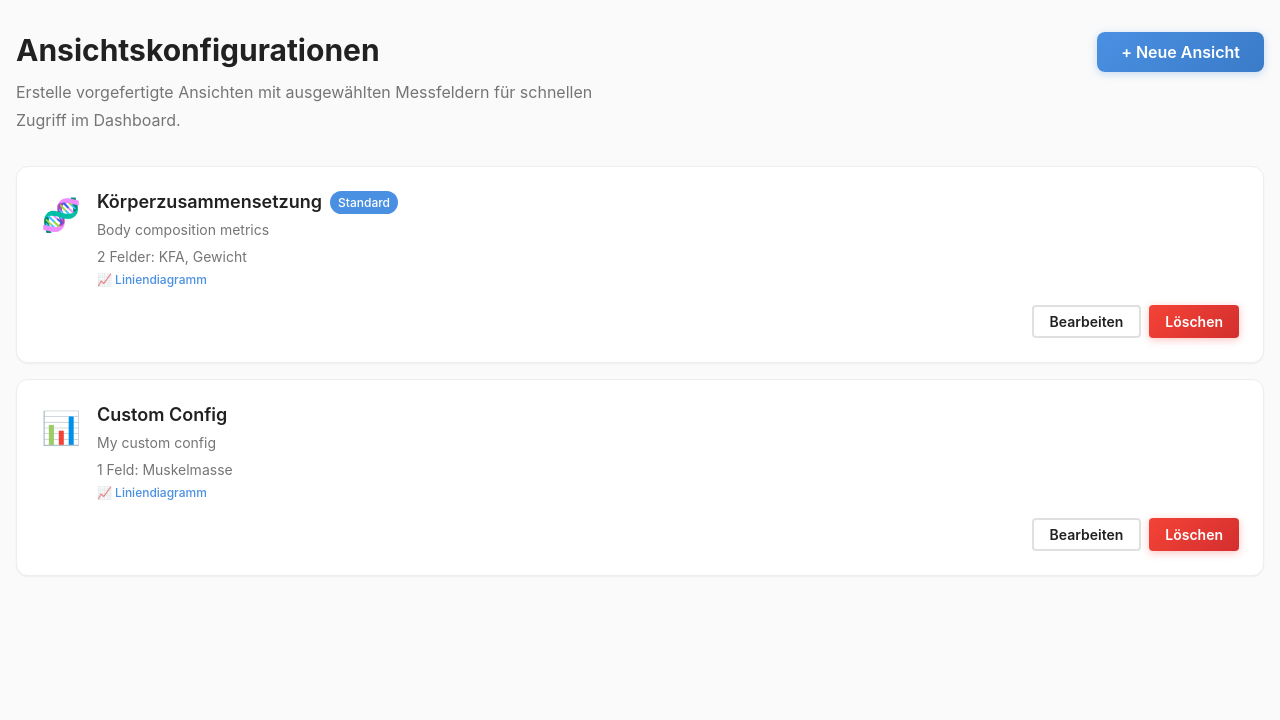
Test: ViewConfigsPage Component › Create View Config › should open modal when new view button is clicked
This screenshot has width=1280, height=720.
Click the button "+ Neue Ansicht" at (1181, 52), box [1097,32,1264,72]
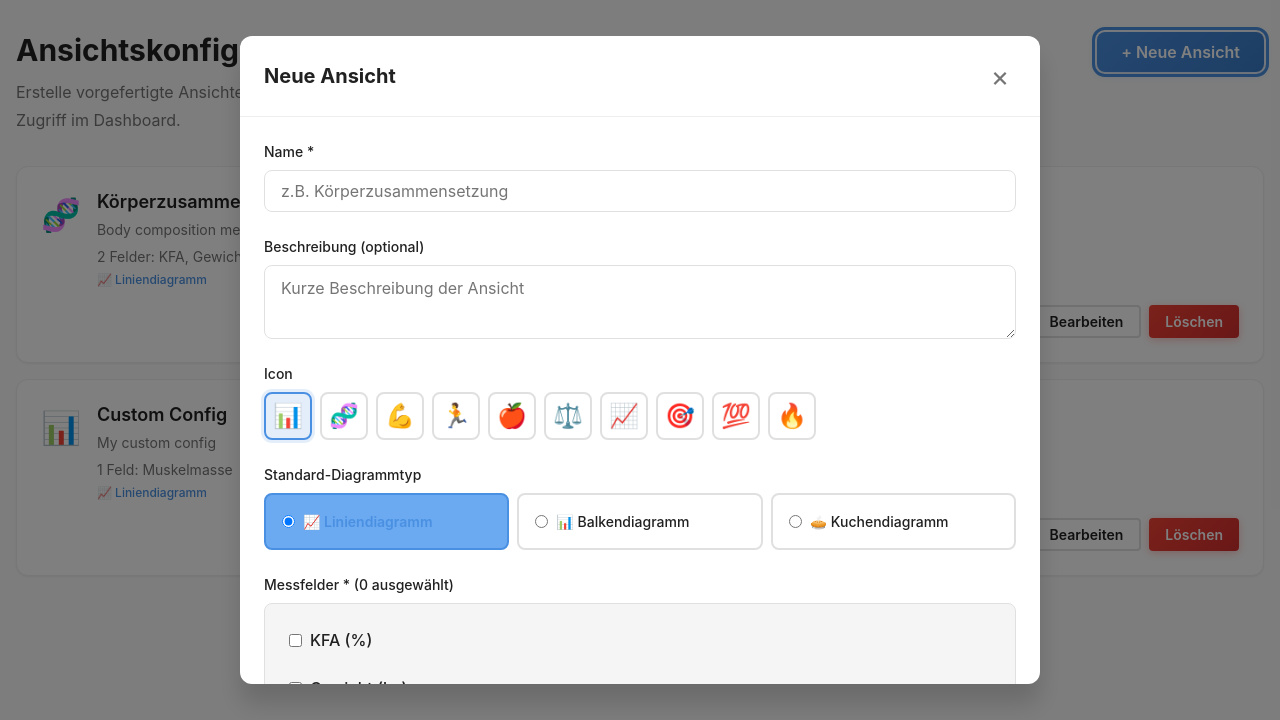
Now the heading "Neue Ansicht" is shown, box [264,64,396,88]
Now the field labelled "Name *" is shown, box [264,170,1016,212]
